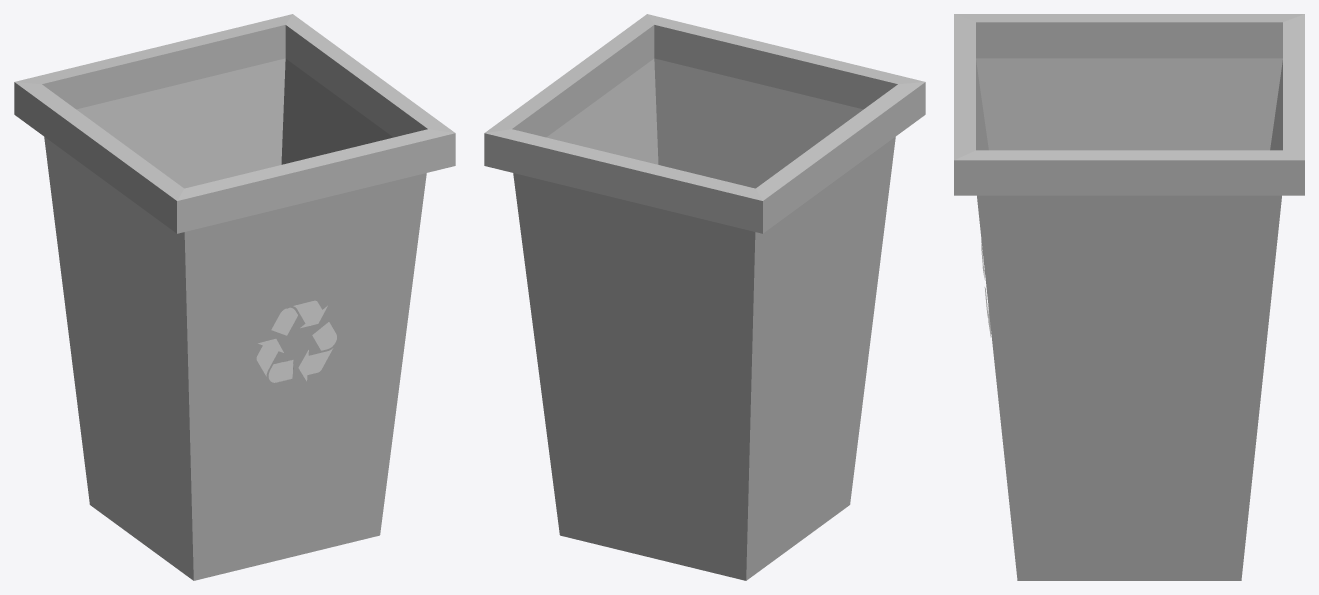
File: M_SortingCan.fbx
3 views of the same model, side by side, from view 1: azimuth 30°, elevation 25°; view 2: azimuth 150°, elevation 25°; view 3: azimuth 270°, elevation 25° (orthographic). The views are drawn at different scales.
Visible parts, largest first — view 1: Cube, Plane; view 2: Cube; view 3: Cube.
Boxes of the visible parts, left/top/right/bottom form: Cube: left=14, top=14, right=455, bottom=580; Plane: left=256, top=300, right=336, bottom=382; Cube: left=484, top=14, right=925, bottom=580; Cube: left=954, top=14, right=1304, bottom=580.
Size of the model in its own units: 398 by 565 by 403.
